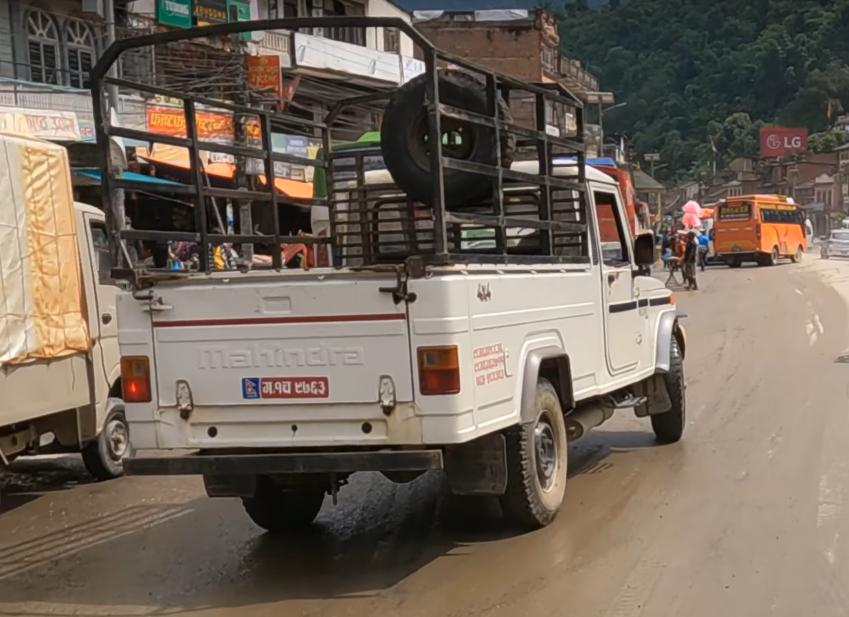bus: (710, 189, 822, 273)
transport_vehicle: (81, 15, 708, 538)
